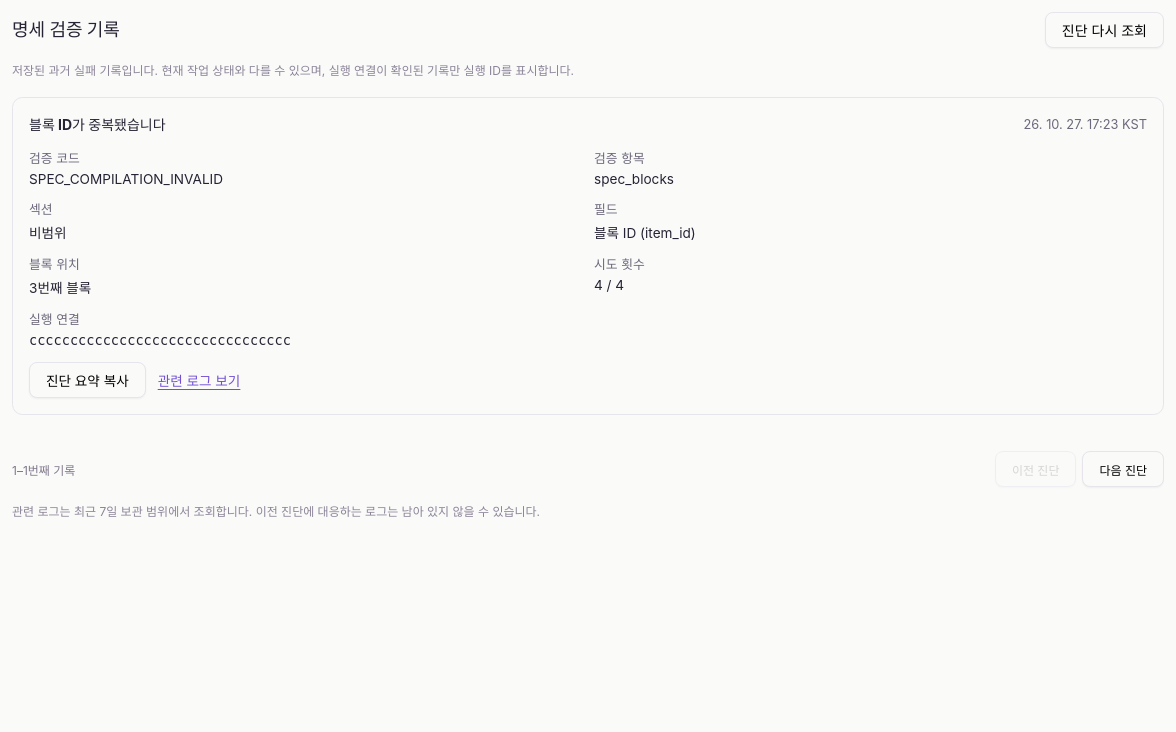
Test: 연결된 실행만 로그 필터에 넣고 페이지를 이동한다
The width and height of the screenshot is (1176, 732).
expect the text "3번째 블록" is shown: met, box [29,280,91,296]
expect the text "블록 ID가 중복됐습니다" is shown: met, box [29,114,166,134]
Click the button "다음 진단": x=1123, y=469 [1082,451,1164,487]
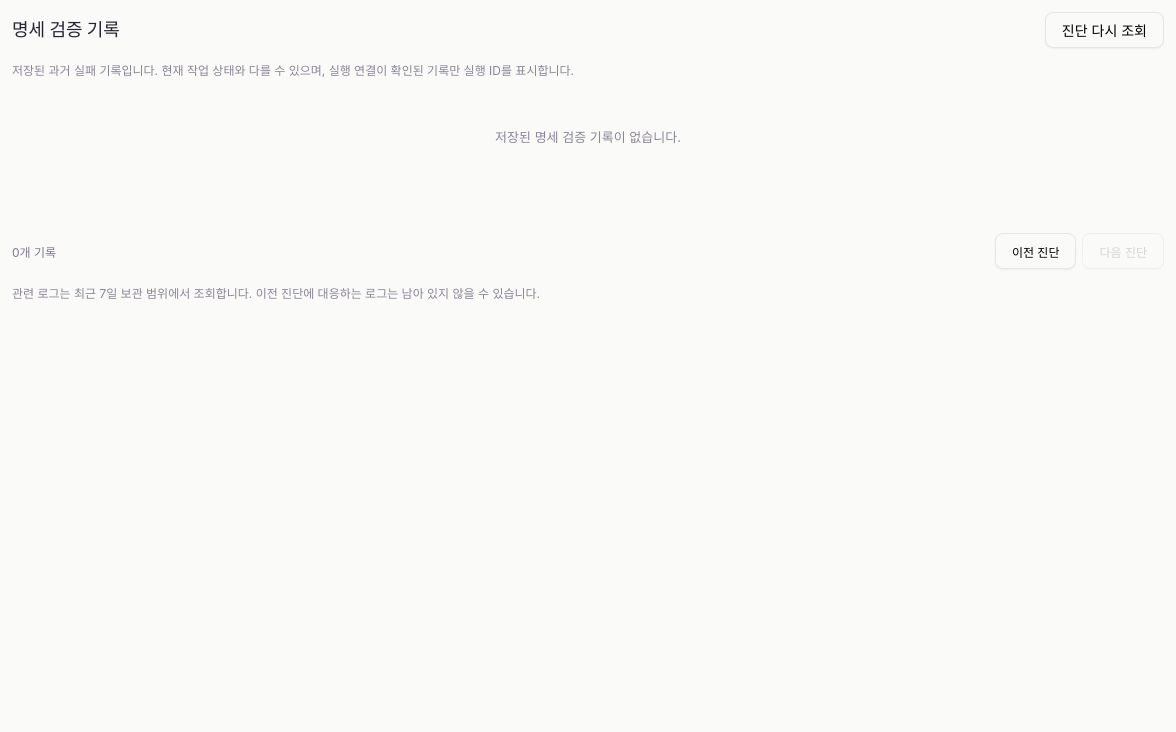
expect the text "저장된 명세 검증 기록이 없습니다." is shown: met, box [495,129,681,145]
